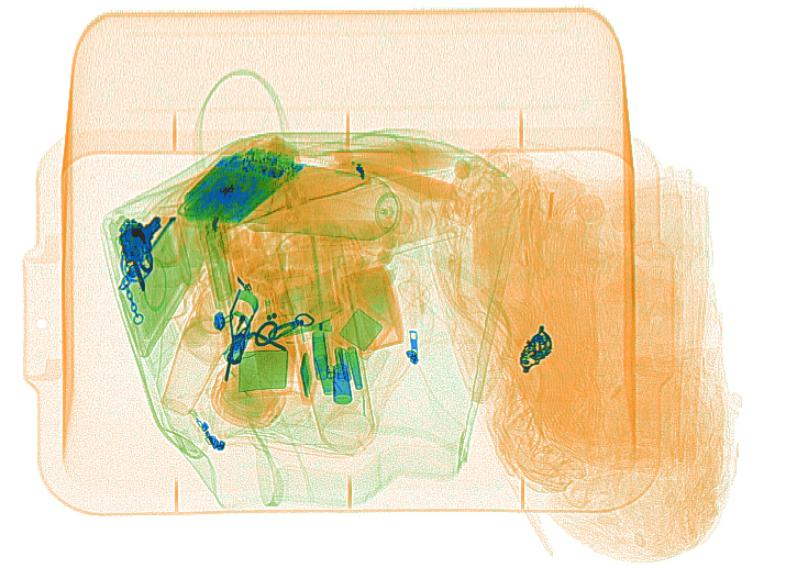plasticBottleWithaNozzle: (249, 285, 297, 399)
pressure: (236, 157, 417, 243)
